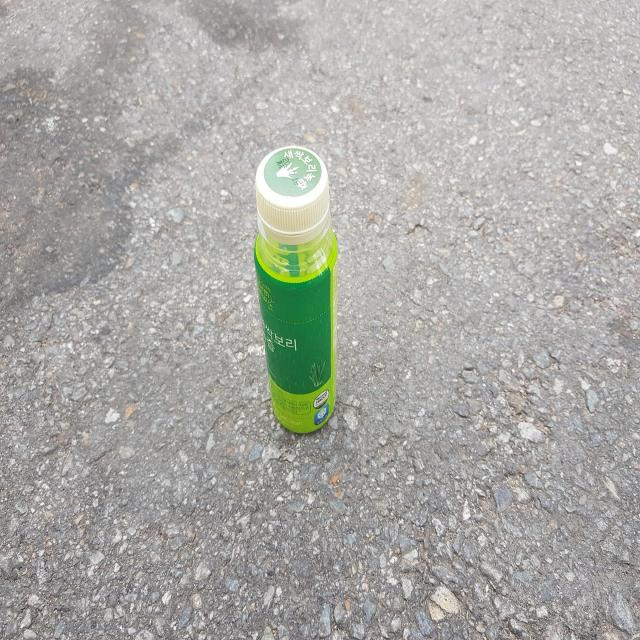plastic: (255, 145, 338, 433)
